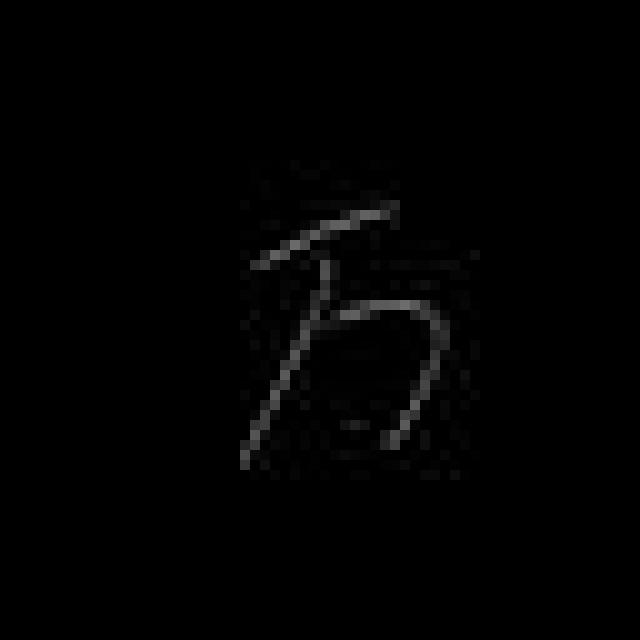10000 -a ten thousand-: (216, 192, 458, 479)
